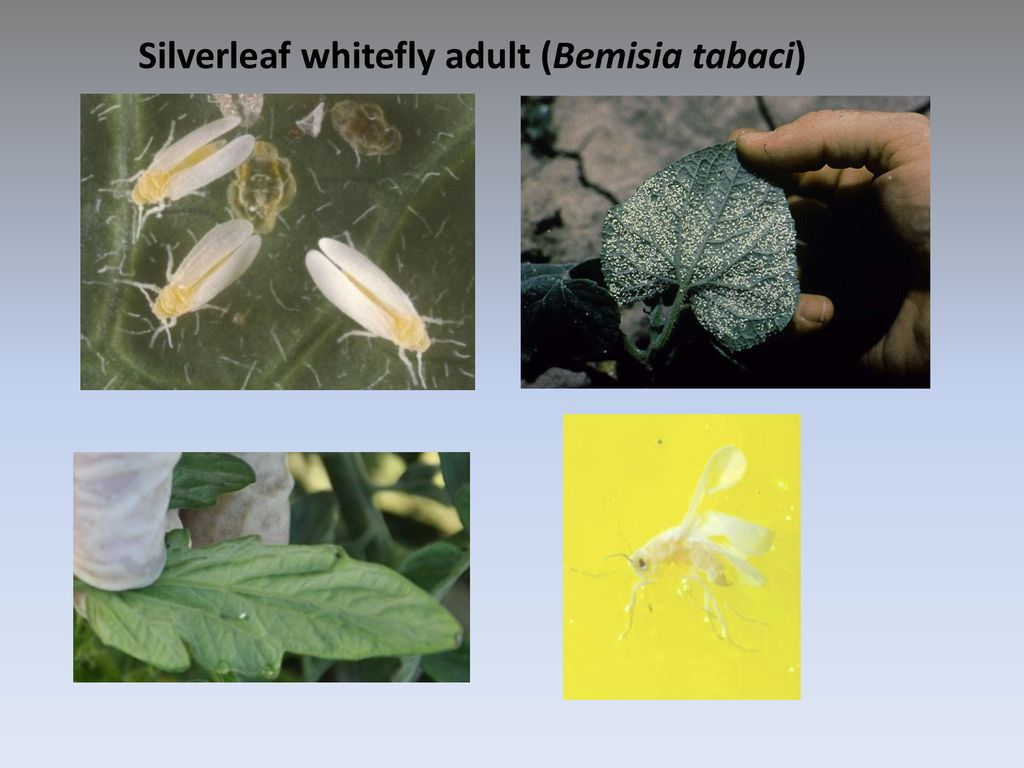Tobacco Whitefly: (146, 201, 281, 354), (323, 228, 450, 369), (124, 93, 234, 220)
